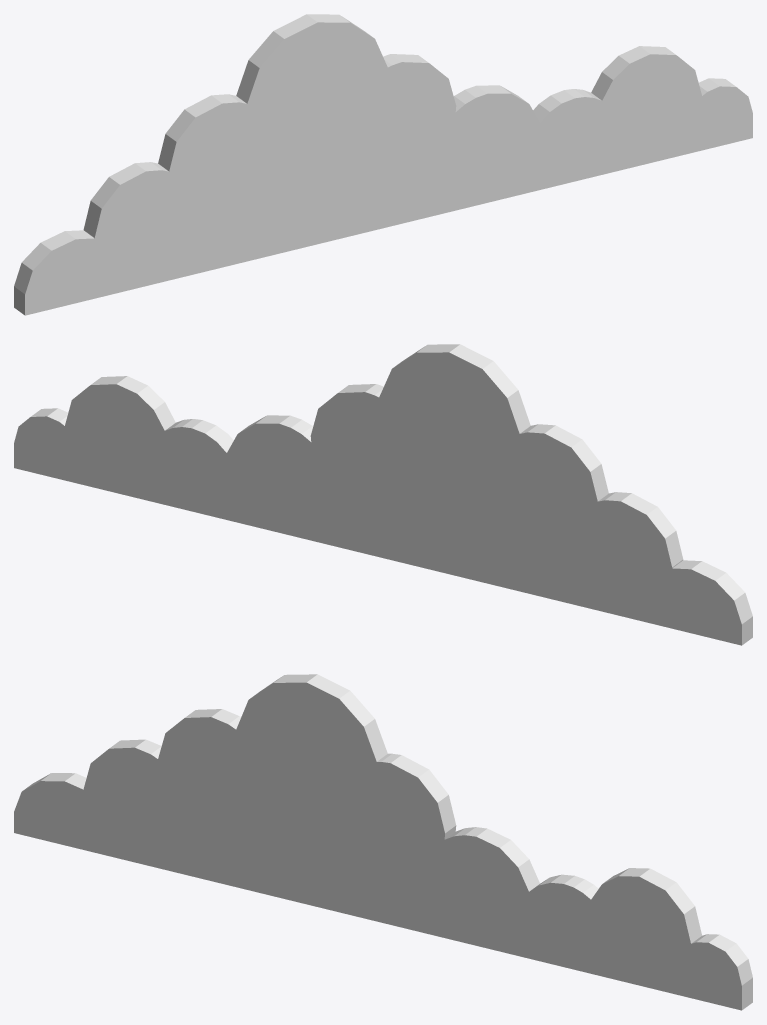
File: cartoon_cloud_8.fbx
3 renders of one model, top to bottom at view 1: azimuth 30°, elevation 25°; view 2: azimuth 150°, elevation 25°; view 3: azimuth 330°, elevation 25°, orthographic.
Visible parts, largest first — view 1: cloud_78; view 2: cloud_78; view 3: cloud_78.
Boxes of the visible parts, x1,y1,x2,y2 form: cloud_78: (14,14,752,315); cloud_78: (14,344,752,645); cloud_78: (14,674,752,1010).
Size of the model in its own units: 755 by 220 by 20.
